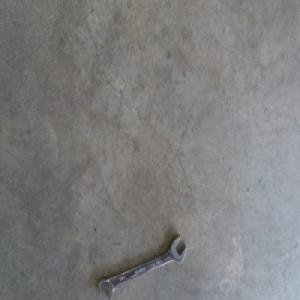Wrench: (98, 237, 186, 294)
